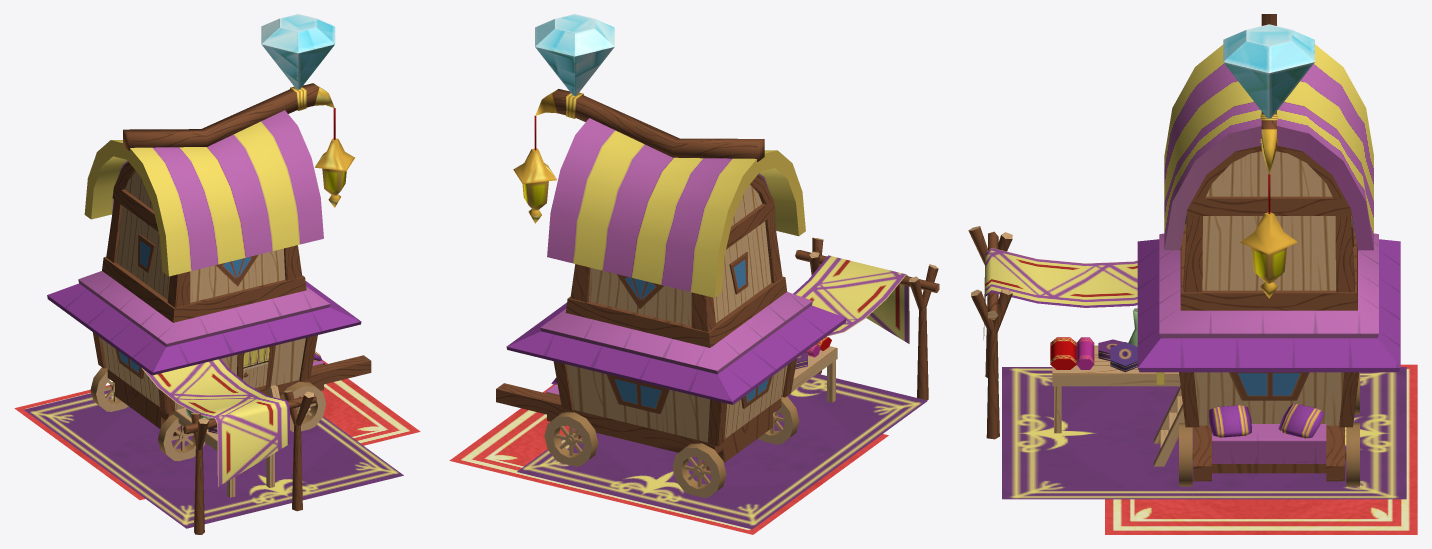
The model's file is building_Accessories_lv5.FBX.
3 renders of one model, left to right at view 1: azimuth 30°, elevation 25°; view 2: azimuth 150°, elevation 25°; view 3: azimuth 270°, elevation 25°, orthographic. The views are drawn at different scales.
Visible parts, largest first — view 1: building_Accessories_roof_lv5, building_Accessories_etc02_lv5, building_Accessories_etc01_lv5, building_Accessories_lv5; view 2: building_Accessories_roof_lv5, building_Accessories_etc01_lv5, building_Accessories_etc02_lv5, building_Accessories_lv5; view 3: building_Accessories_etc02_lv5, building_Accessories_roof_lv5, building_Accessories_etc01_lv5, building_Accessories_lv5.
Part boxes in pixels (bbox=[...]): building_Accessories_roof_lv5: bbox=[47, 110, 361, 375]; building_Accessories_etc02_lv5: bbox=[14, 358, 420, 528]; building_Accessories_etc01_lv5: bbox=[90, 14, 371, 534]; building_Accessories_lv5: bbox=[101, 171, 305, 409]; building_Accessories_roof_lv5: bbox=[506, 118, 846, 404]; building_Accessories_etc01_lv5: bbox=[496, 14, 939, 497]; building_Accessories_etc02_lv5: bbox=[449, 255, 927, 534]; building_Accessories_lv5: bbox=[566, 184, 787, 442]; building_Accessories_etc02_lv5: bbox=[983, 248, 1417, 534]; building_Accessories_roof_lv5: bbox=[1137, 44, 1400, 372]; building_Accessories_etc01_lv5: bbox=[968, 14, 1359, 486]; building_Accessories_lv5: bbox=[1194, 151, 1344, 425].
Bounding box in the file's own units: 523 × 670 × 582.
